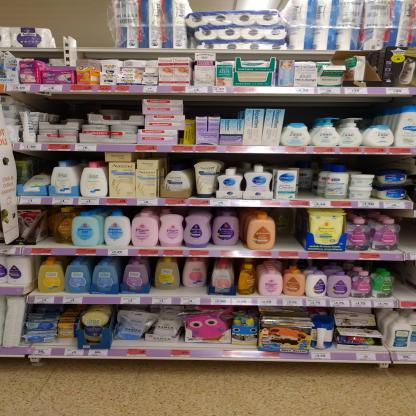Void: (289, 99, 386, 115), (276, 209, 306, 250), (36, 97, 140, 108), (185, 98, 241, 118), (397, 262, 413, 300), (150, 290, 204, 296), (252, 98, 283, 108)
